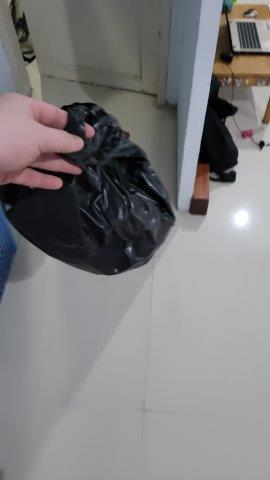plastik: (11, 99, 175, 276)
